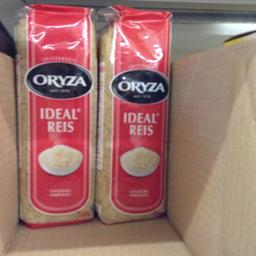rice: (12, 4, 94, 226), (94, 6, 172, 223)
